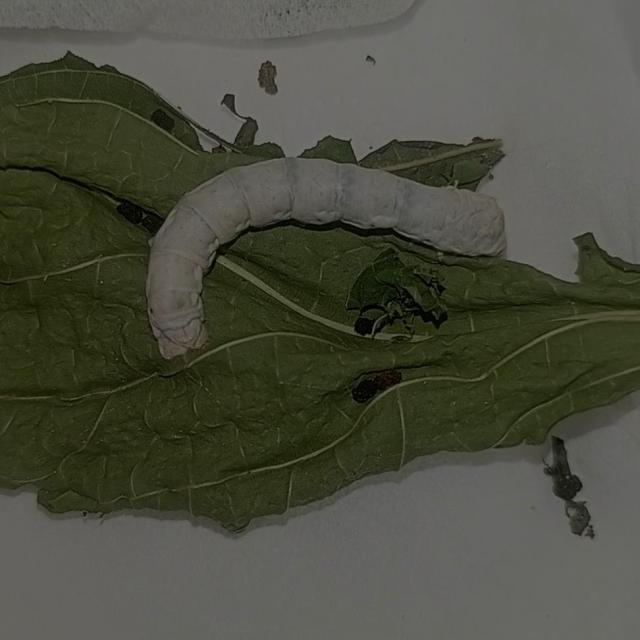Healthy: (130, 137, 512, 362)
